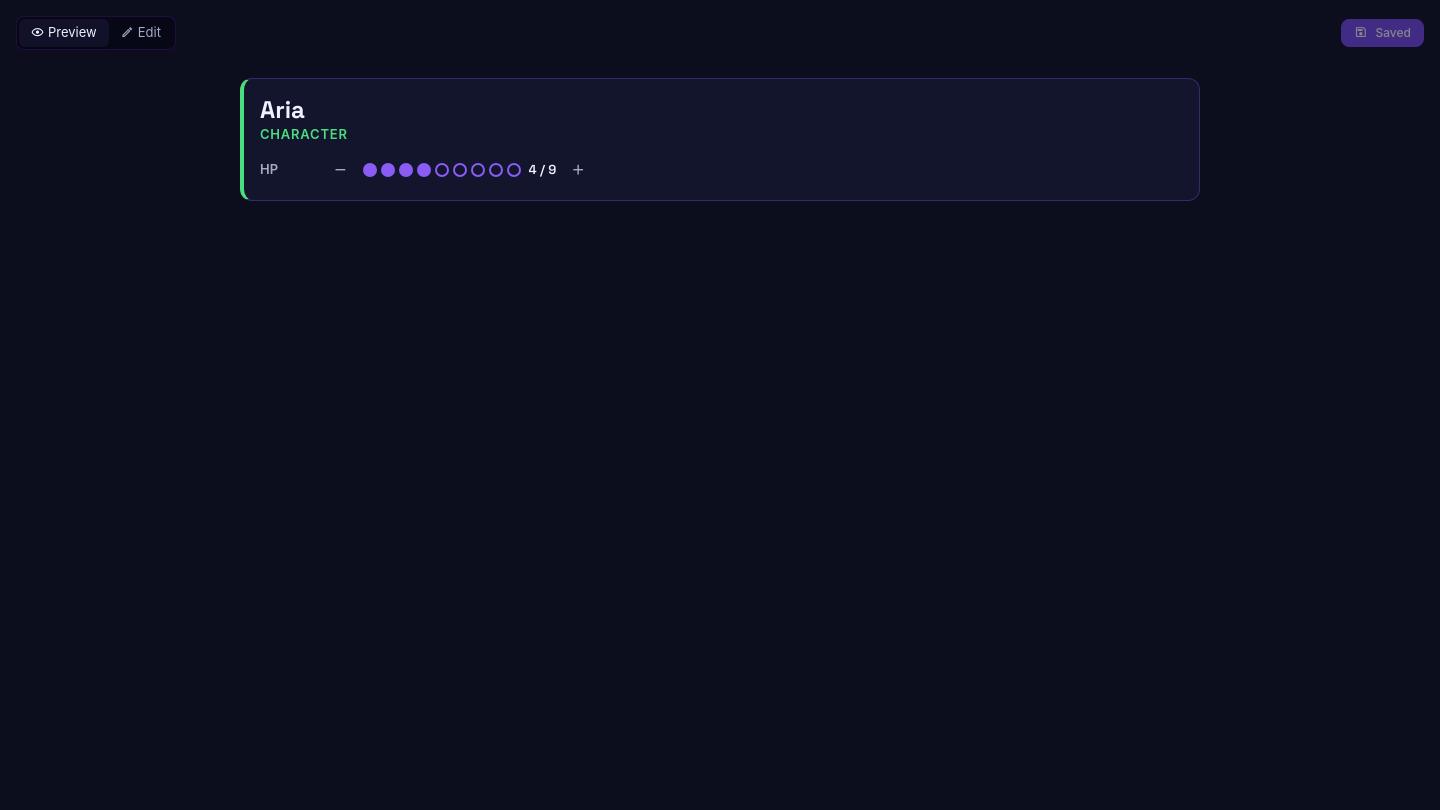
Scenario: CharacterEditor › shows what the server refused
Click the button "Edit" at point(141, 33), box [109,19,173,46]
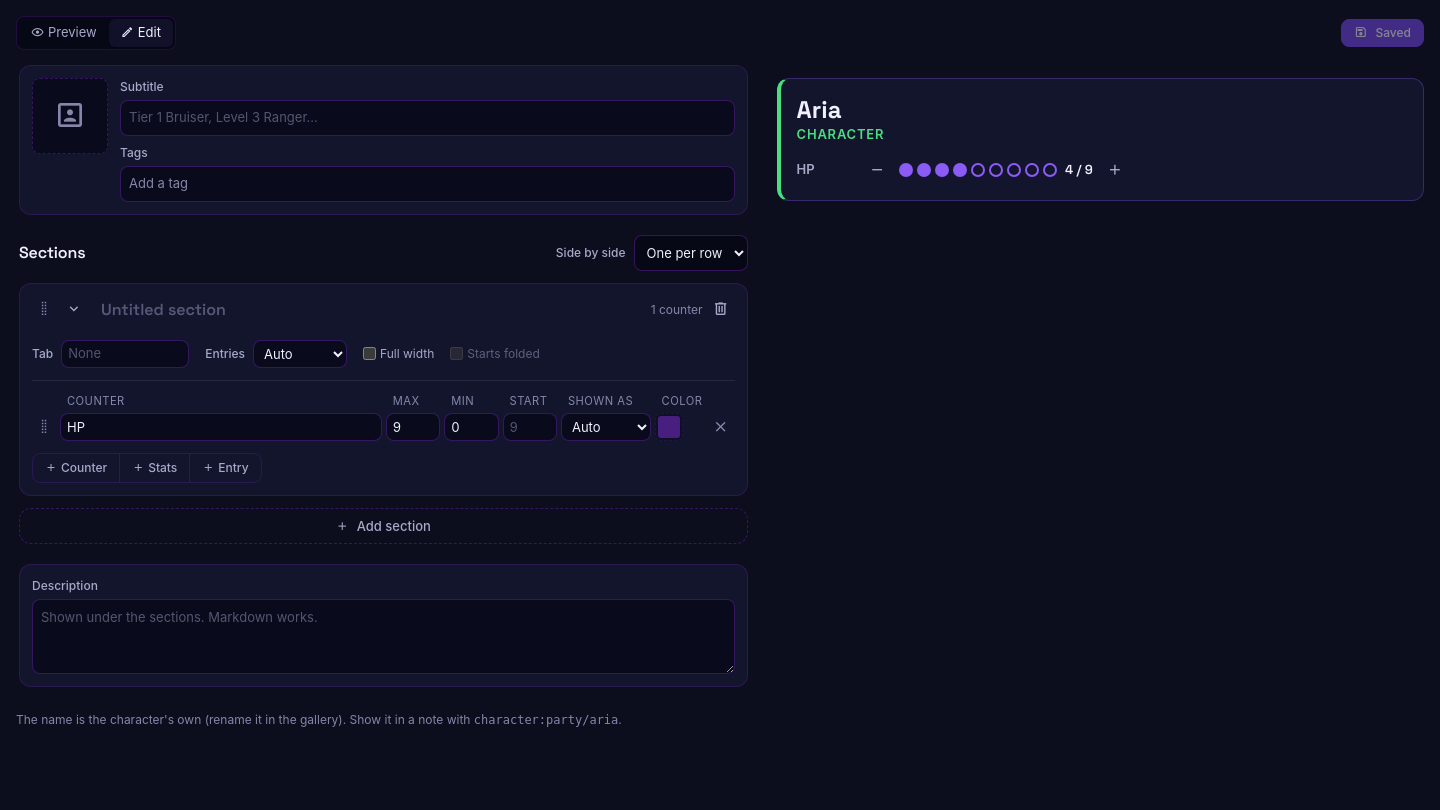
Type "Ranger" into the field labelled "Subtitle" at point(427, 118), box [120,100,734,136]
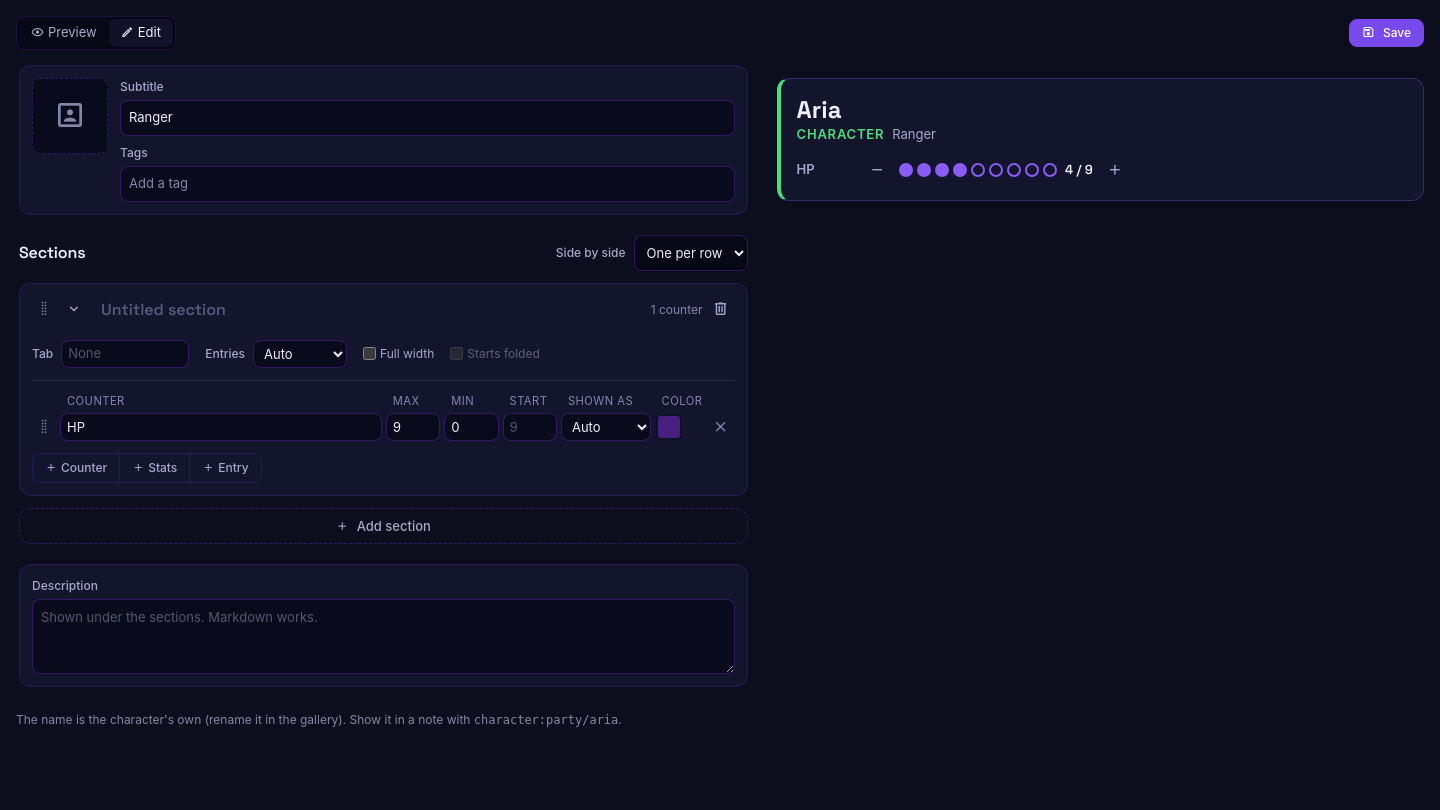
Click the button "Save" at point(1386, 33), box [1349,19,1424,47]
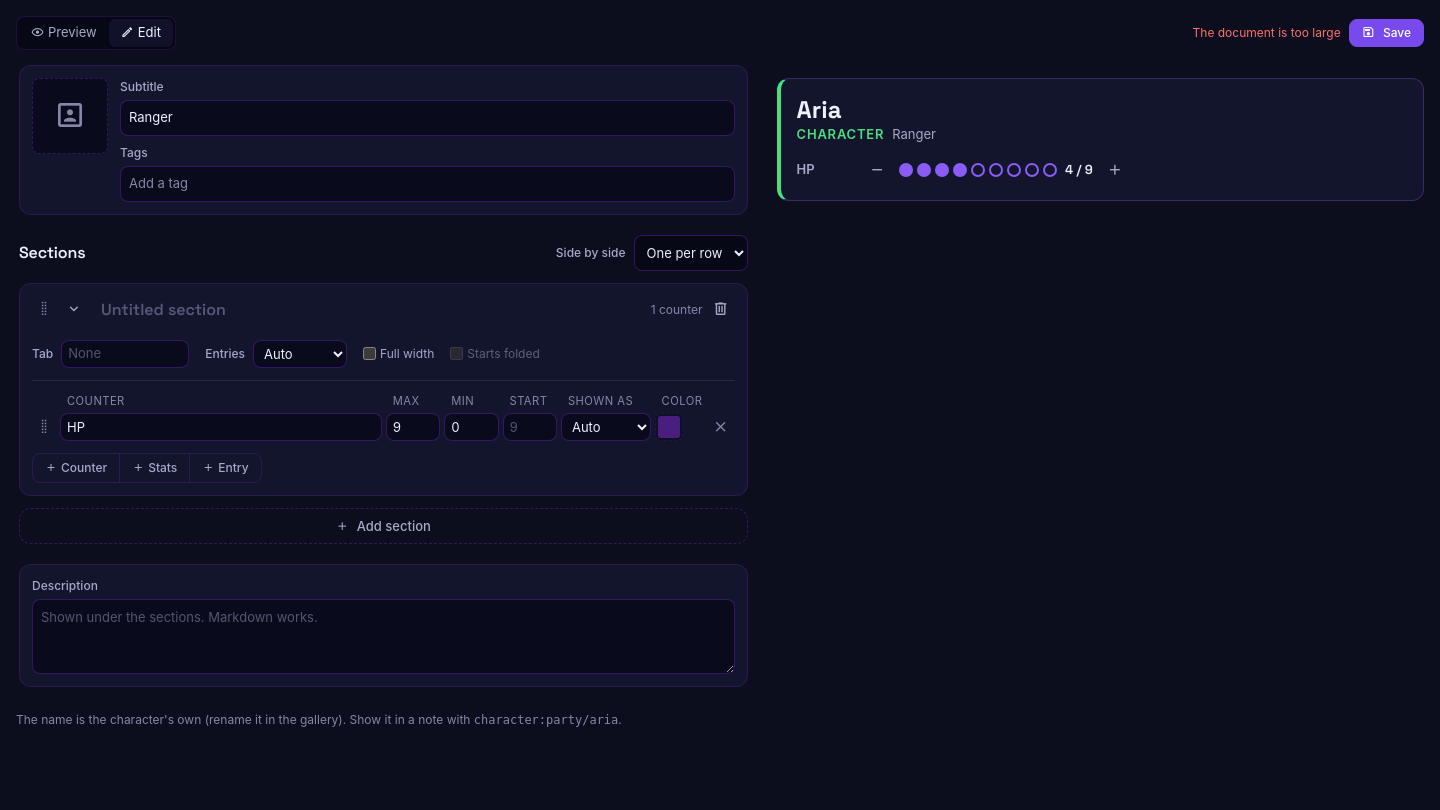
Result: the message with class "save-error" shows "too large" at [1193,25,1341,40]
